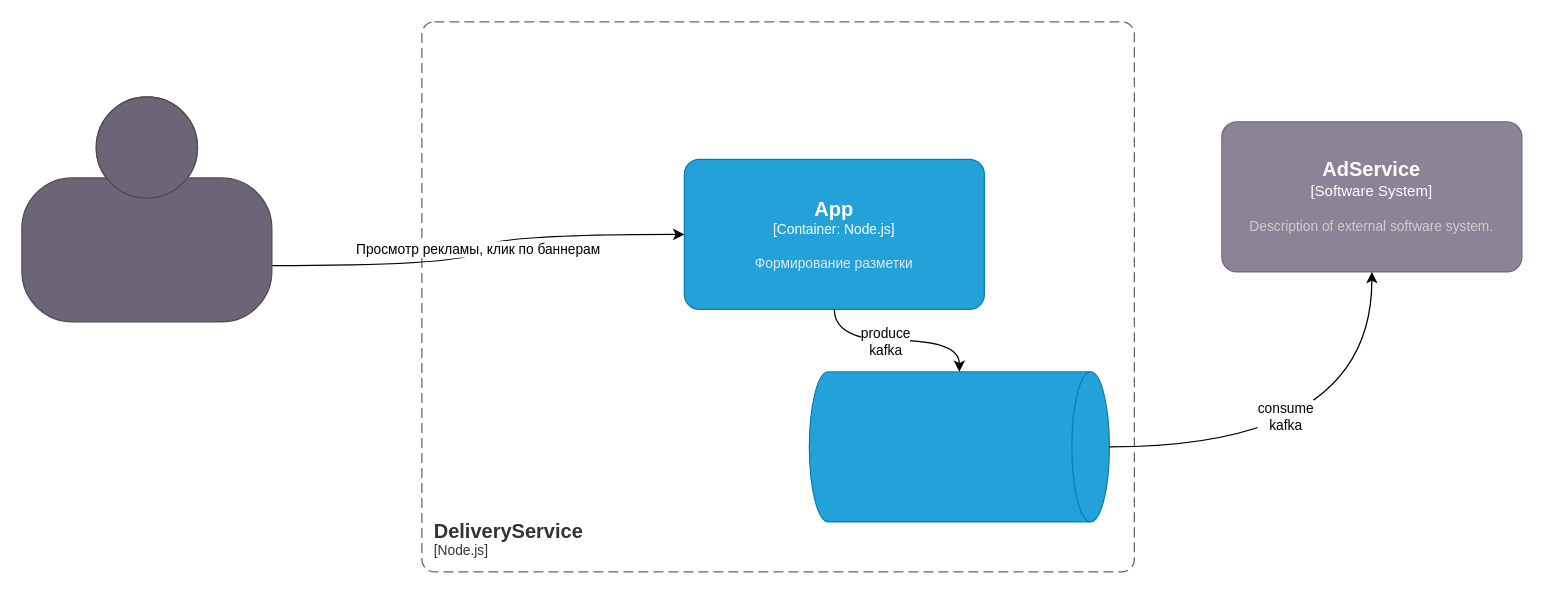
This 1544x594 diagram has some shape labels left out. The shapes that lost their labels are listed below. From the top down, each one's centre as x and y in pixels, then its label:
At point 146,209: "Site User [Person] Просмотр рекламы".
At point 958,446: "Kafka [Container: Apache Kafka] Kafka для отправки событий о кликах".
